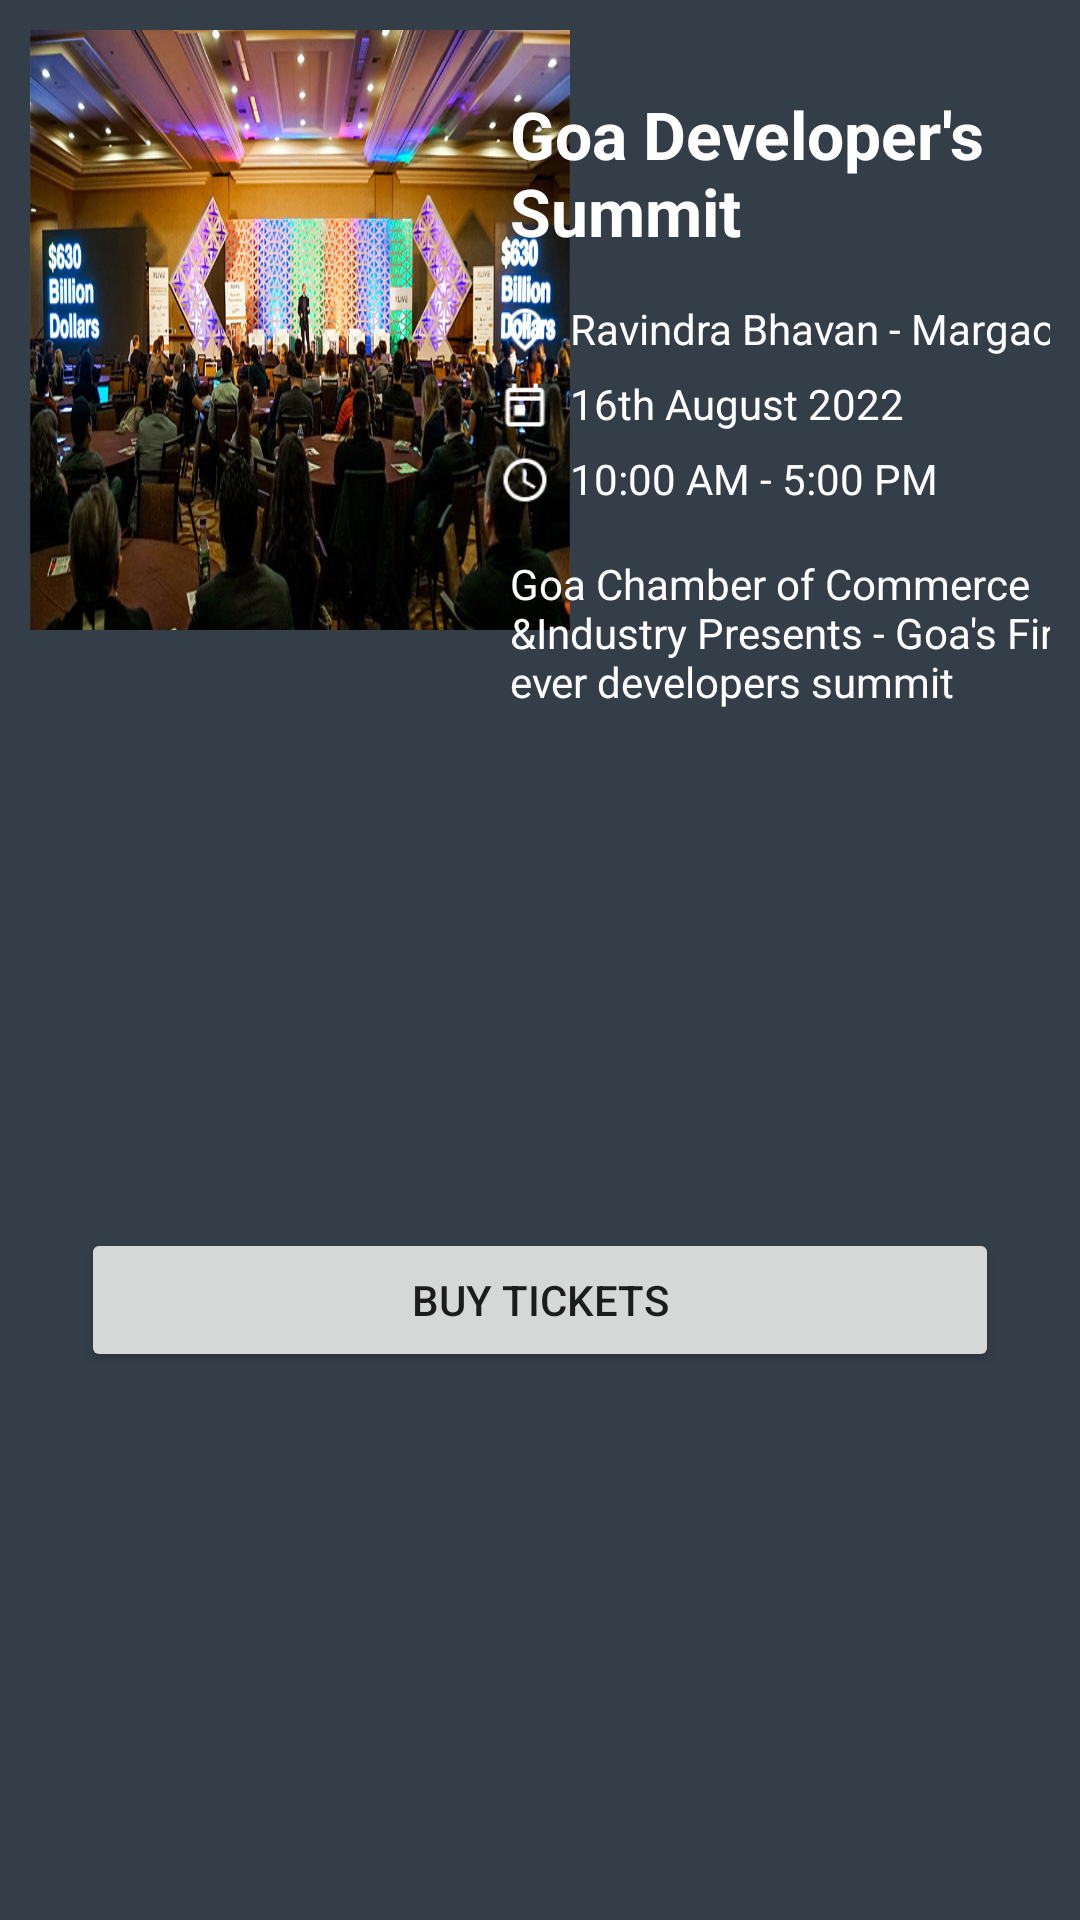

Icon click points for this 1080 x 1920 phone screenshot, format point (x, y):
event date: point (525, 405)
event time: point (525, 480)
